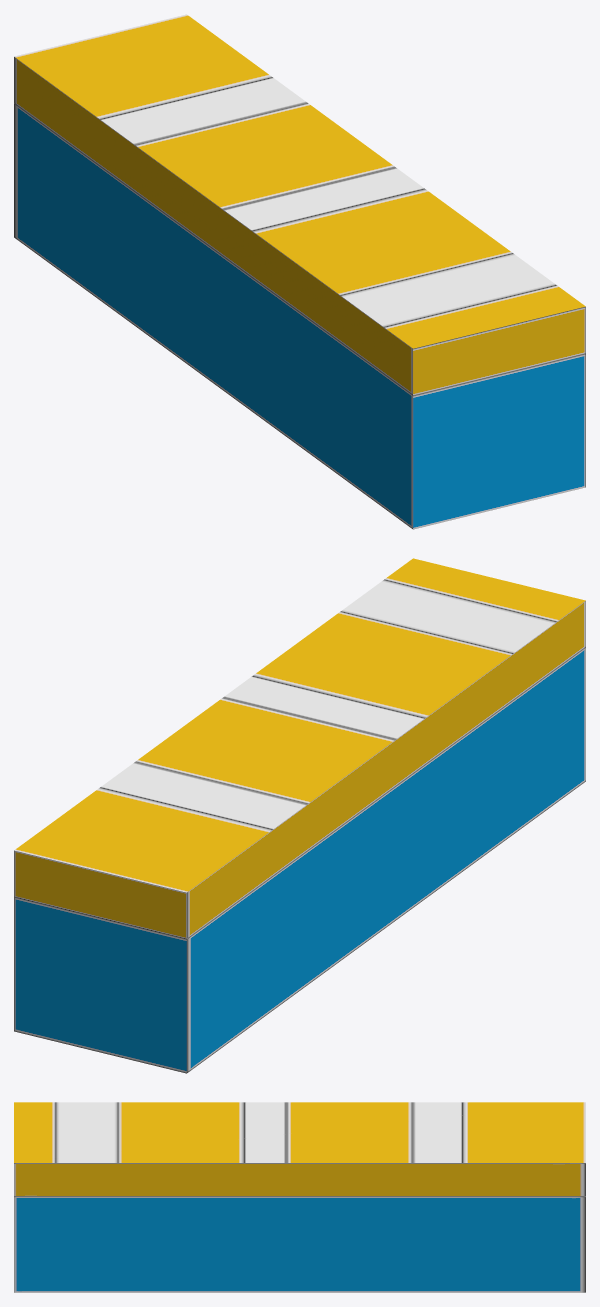
File: textured_man.dae
3 views of the same model, one above another, from view 1: azimuth 30°, elevation 25°; view 2: azimuth 150°, elevation 25°; view 3: azimuth 270°, elevation 25° (orthographic). The views are drawn at different scales.
Visible parts, largest first — view 1: Cube; view 2: Cube; view 3: Cube.
Boxes of the visible parts, <box> form: Cube: <box>14,14,585,529</box>; Cube: <box>14,558,585,1073</box>; Cube: <box>14,1102,585,1292</box>.
Bounding box in the file's own units: 2 × 8 × 2.
1 material, 1 textured.
